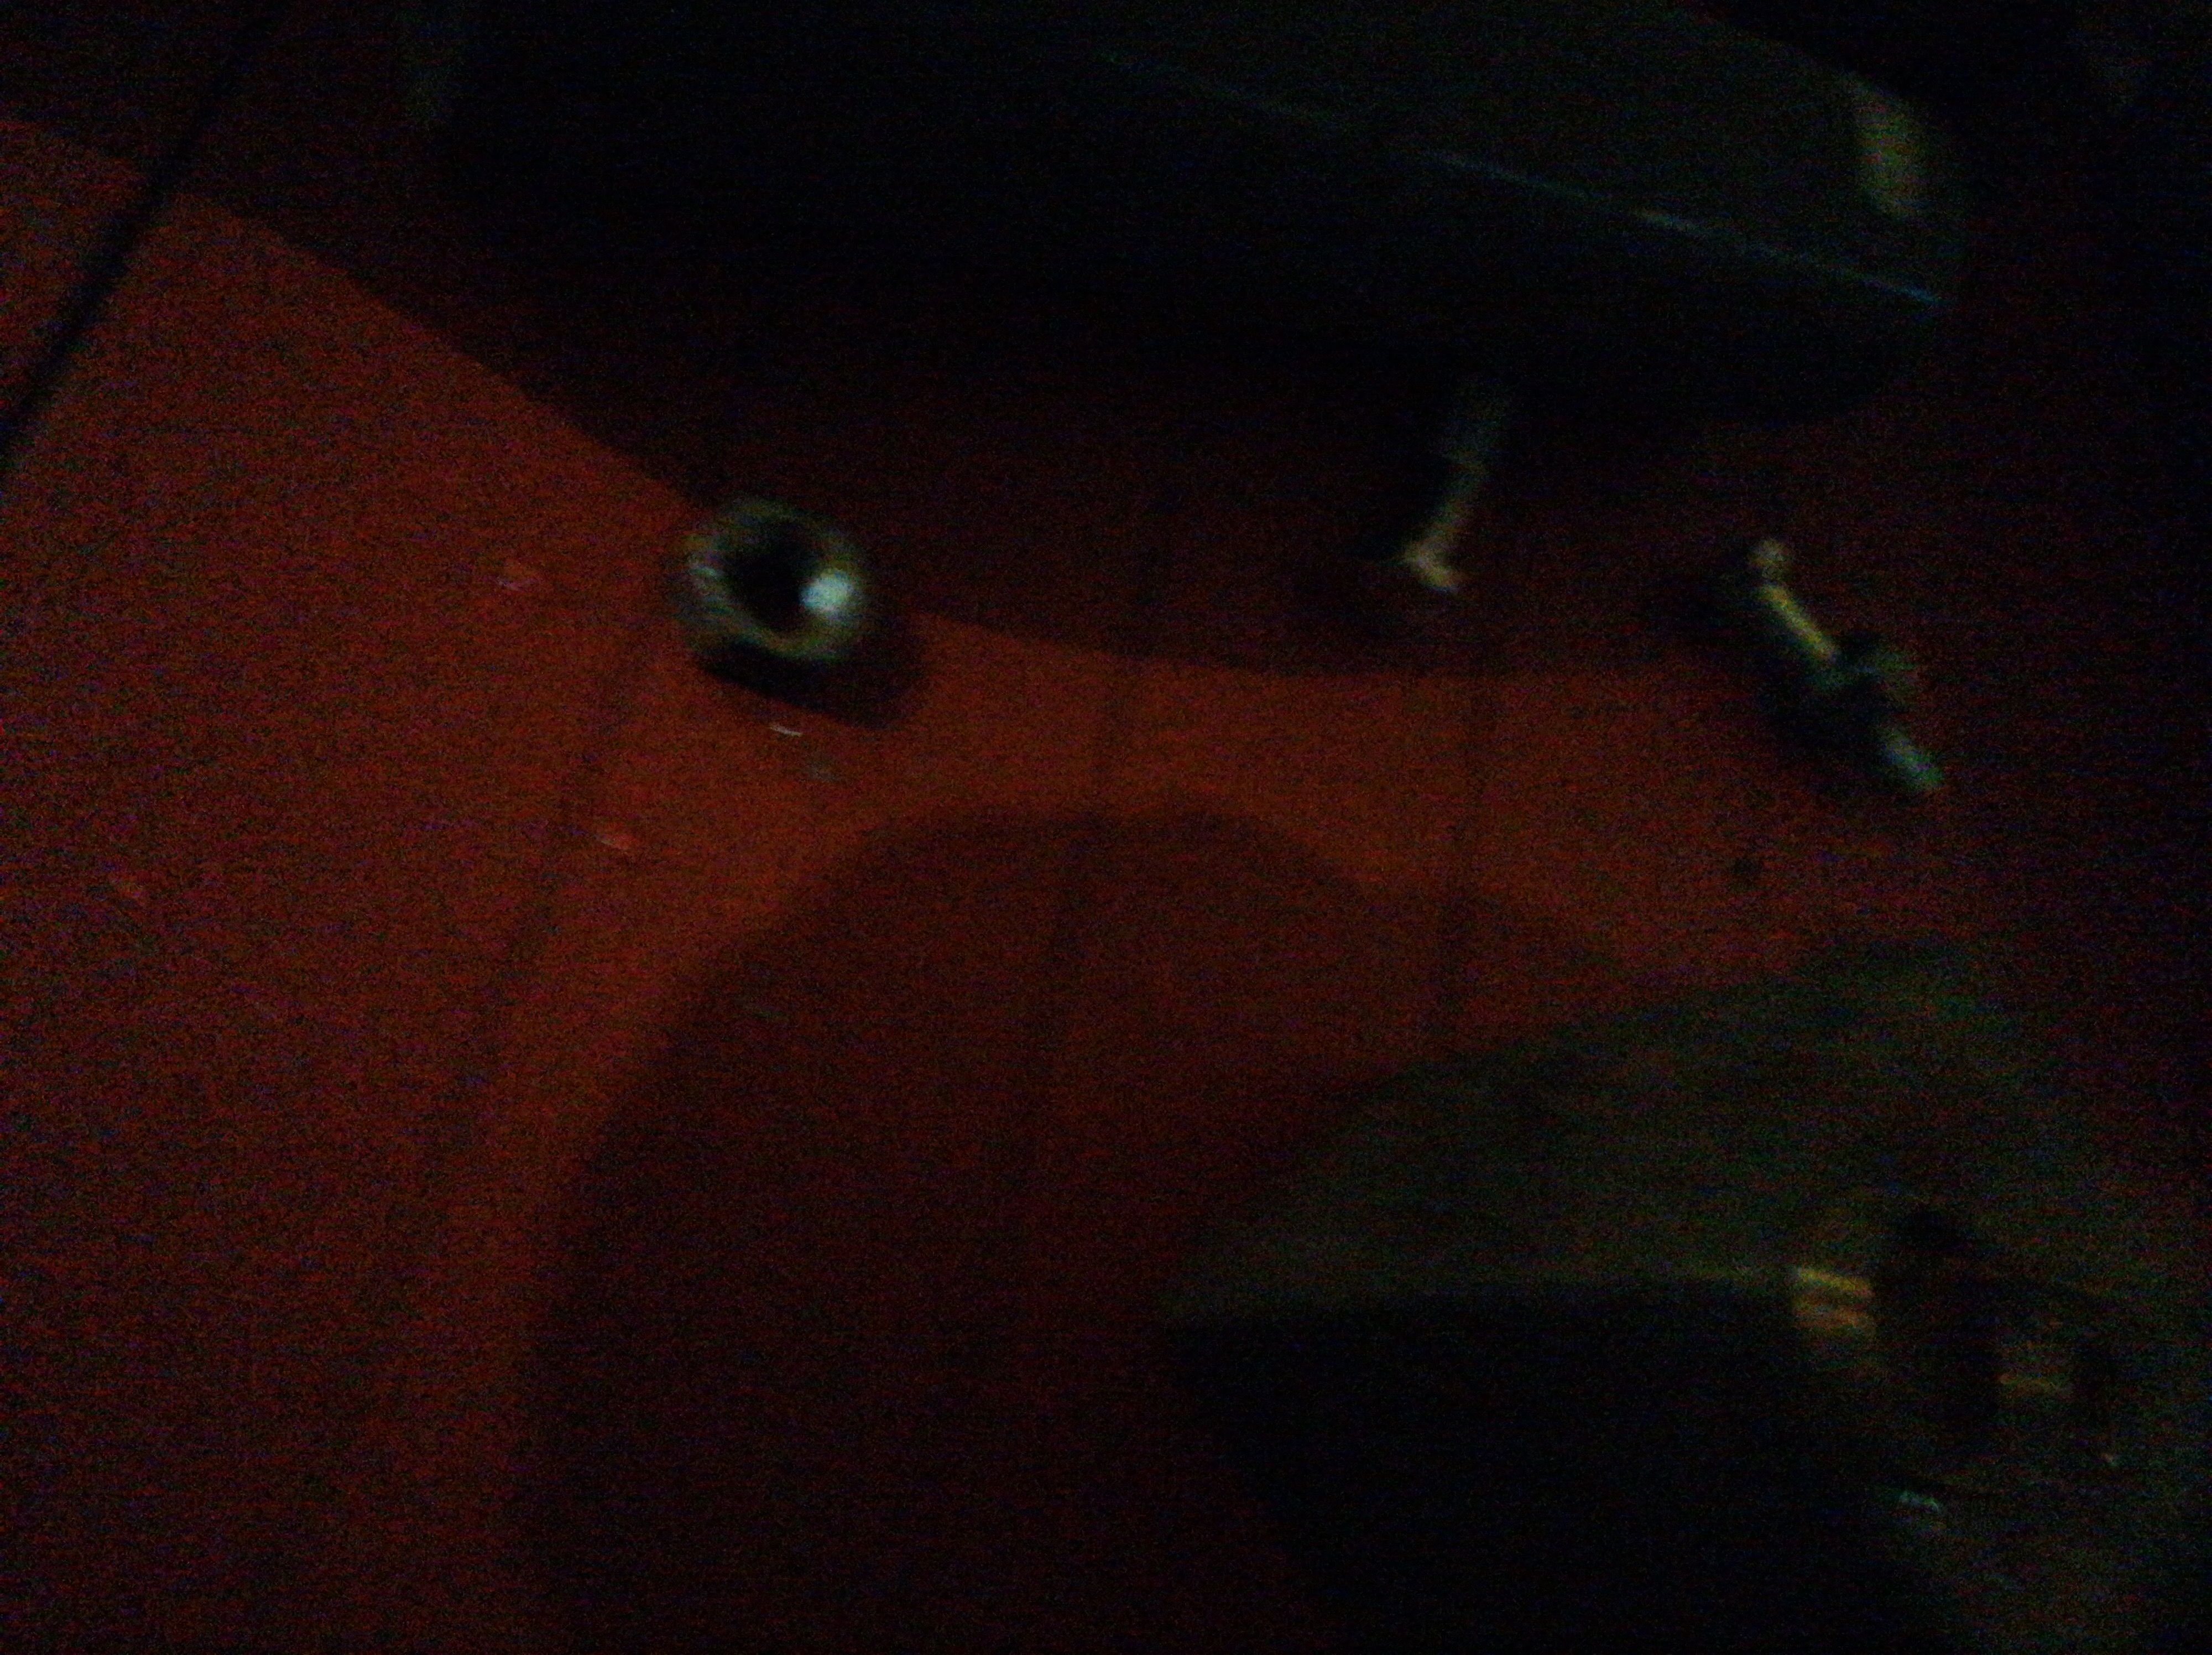bolt: (1712, 522, 1941, 810), (1352, 358, 1513, 643)
lead_block: (1129, 937, 2212, 1652)
nut: (674, 494, 891, 690), (1804, 633, 1920, 751)
pipe: (400, 0, 1962, 426)
